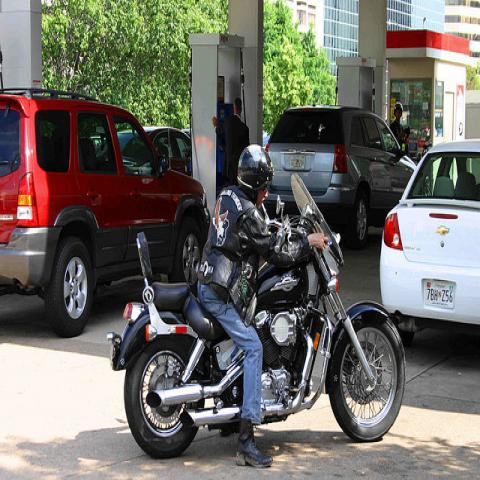car: (0, 86, 212, 338), (378, 126, 479, 350), (264, 104, 412, 255), (148, 126, 192, 181)
motorcycle: (107, 162, 407, 457)
